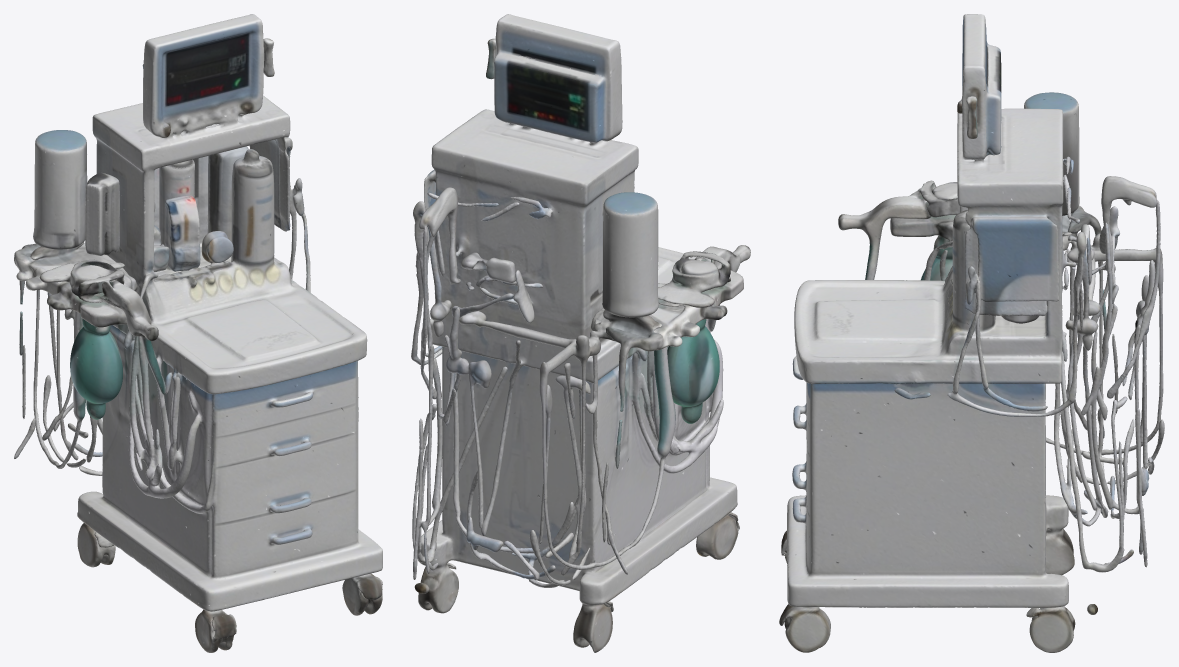
Rendered from anesthesia.glb.
3 renders of one model, left to right at view 1: azimuth 30°, elevation 25°; view 2: azimuth 150°, elevation 25°; view 3: azimuth 270°, elevation 25°, orthographic. The views are drawn at different scales.
Visible parts, largest first — view 1: Object_5, Object_6, Object_7, Object_8, Object_9, Object_10, Object_11, Object_12; view 2: Object_9, Object_8, Object_10, Object_12, Object_6, Object_11, Object_7, Object_5; view 3: Object_7, Object_5, Object_6, Object_10, Object_12, Object_9, Object_11, Object_8.
Part boxes in pixels (x1=…): Object_5: x1=77, y1=95, x2=382, y2=652; Object_6: x1=92, y1=14, x2=362, y2=359; Object_7: x1=15, y1=184, x2=359, y2=543; Object_8: x1=70, y1=155, x2=372, y2=609; Object_9: x1=14, y1=139, x2=296, y2=455; Object_10: x1=14, y1=290, x2=214, y2=575; Object_11: x1=19, y1=146, x2=247, y2=455; Object_12: x1=36, y1=17, x2=349, y2=638; Object_9: x1=411, y1=203, x2=719, y2=590; Object_8: x1=421, y1=147, x2=723, y2=590; Object_10: x1=413, y1=187, x2=709, y2=652; Object_12: x1=413, y1=17, x2=728, y2=567; Object_6: x1=414, y1=14, x2=638, y2=364; Object_11: x1=412, y1=188, x2=697, y2=613; Object_7: x1=411, y1=209, x2=750, y2=533; Object_5: x1=432, y1=109, x2=739, y2=605; Object_7: x1=810, y1=180, x2=1085, y2=577; Object_5: x1=779, y1=119, x2=1066, y2=652; Object_6: x1=810, y1=14, x2=1061, y2=402; Object_10: x1=1045, y1=176, x2=1164, y2=575; Object_12: x1=974, y1=16, x2=1138, y2=371; Object_9: x1=974, y1=101, x2=1163, y2=576; Object_11: x1=977, y1=159, x2=1138, y2=652; Object_8: x1=810, y1=111, x2=1150, y2=646.
Size of the model in its own units: 1 by 2.01 by 1.23.
1 material, 1 textured.
